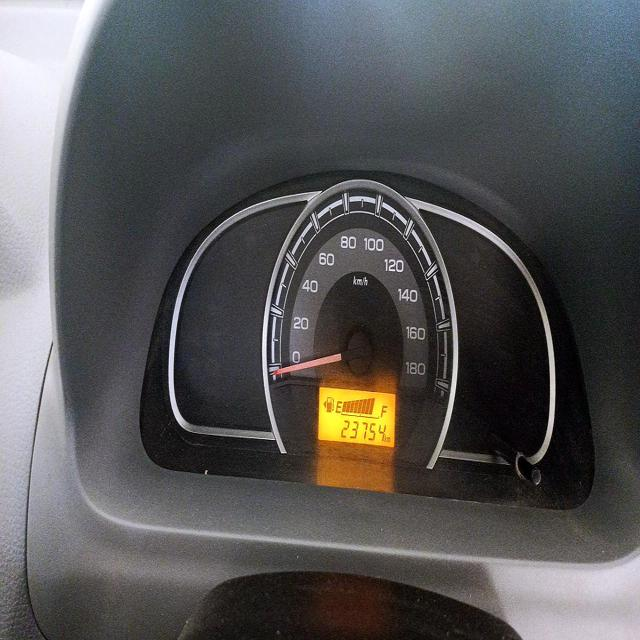odometer: (337, 415, 389, 445)
